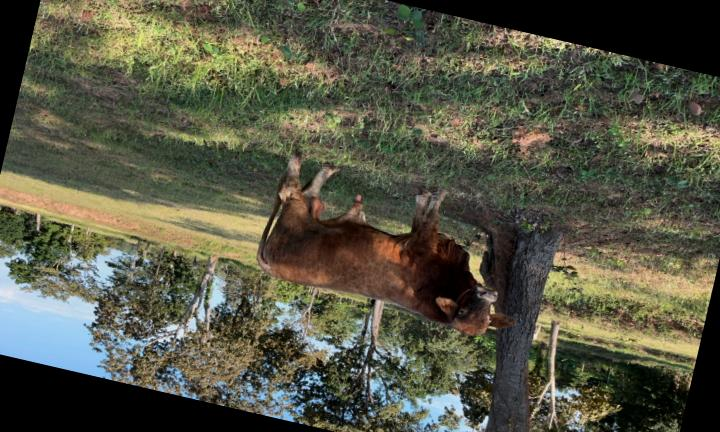Charolais: (257, 152, 516, 336)
